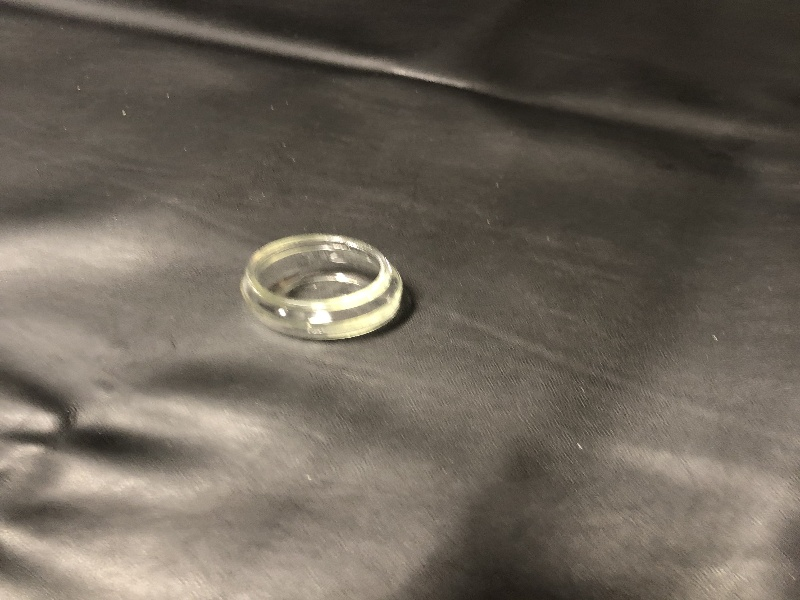glass: (233, 222, 414, 353)
